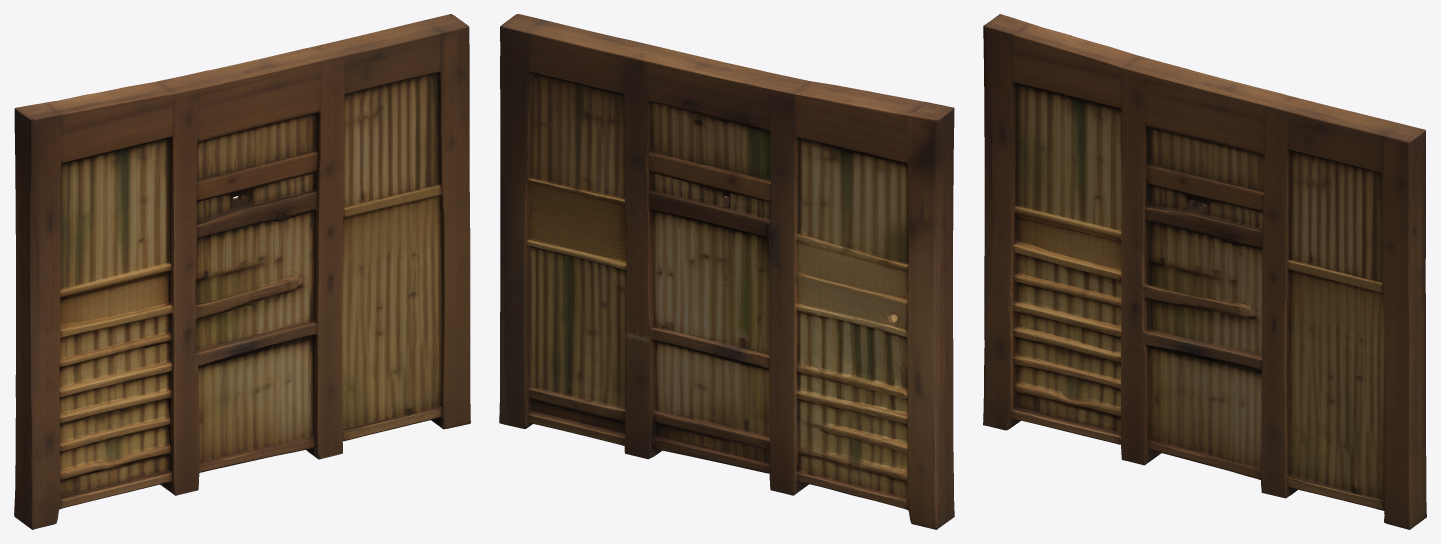
The model's file is VachTre.glb.
3 views of the same model, side by side, from view 1: azimuth 30°, elevation 25°; view 2: azimuth 150°, elevation 25°; view 3: azimuth 330°, elevation 25° (orthographic). The views are drawn at different scales.
Visible parts, largest first — view 1: world; view 2: world; view 3: world.
Boxes of the visible parts, x1,y1,x2,y2 form: world: (14,14,470,529); world: (499,14,954,529); world: (983,14,1426,529).
Bounding box in the file's own units: 0.9995 × 0.8928 × 0.0753.
Materials: 1 (1 with a texture image).
